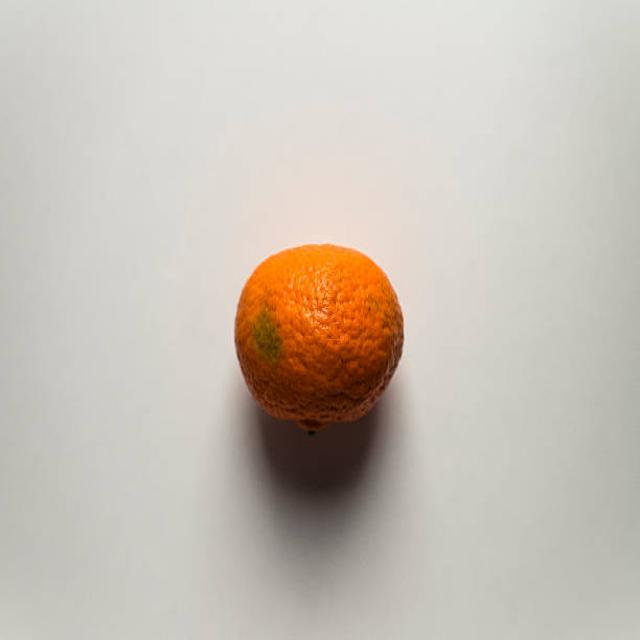overripe: (234, 239, 407, 439)
